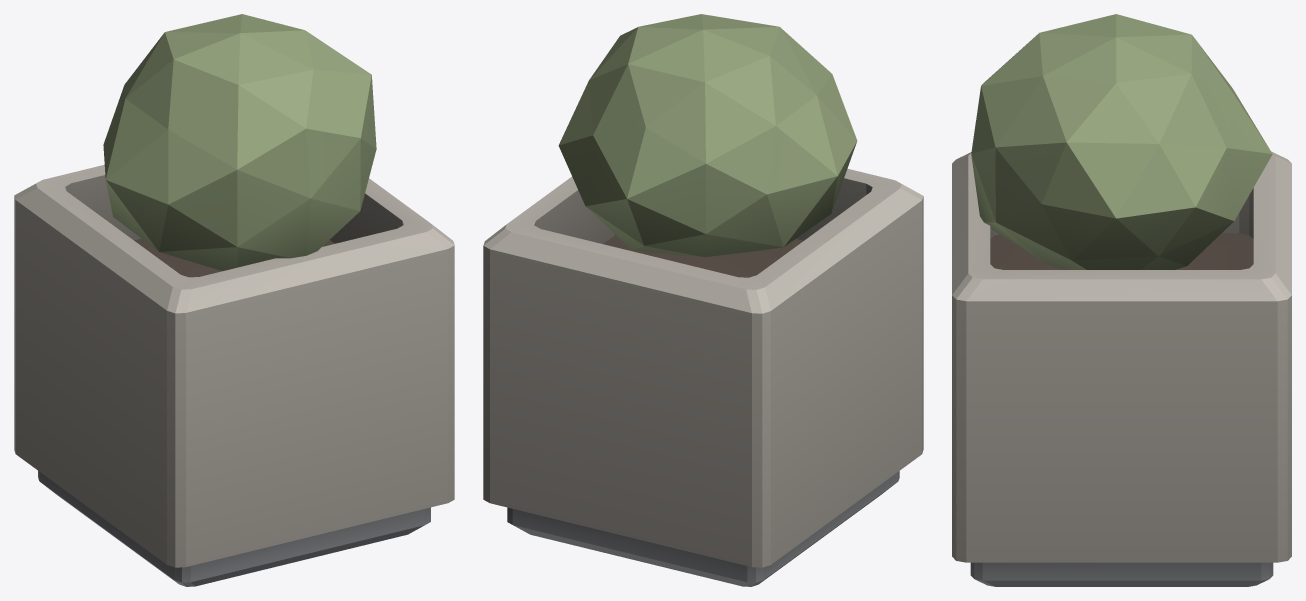
Rendered from planter.glb.
The picture shows the model from 3 angles, left to right: view 1: azimuth 30°, elevation 25°; view 2: azimuth 150°, elevation 25°; view 3: azimuth 270°, elevation 25°; orthographic projection. The views are drawn at different scales.
Visible parts, largest first — view 1: planter; view 2: planter; view 3: planter.
Part boxes in pixels (<box>): planter: <box>14,14,454,586</box>; planter: <box>483,14,923,586</box>; planter: <box>952,14,1291,586</box>.
Size of the model in its own units: 0.806 by 1.29 by 0.806.
